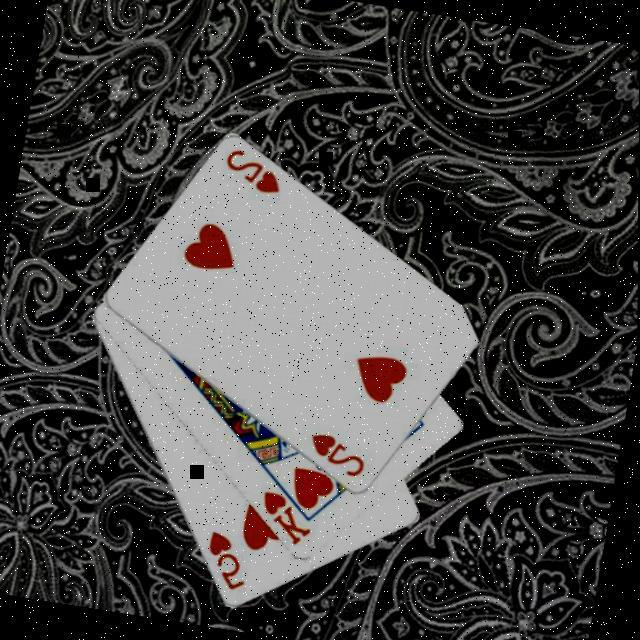2H: (217, 144, 287, 199), (302, 428, 370, 481)
5H: (197, 526, 256, 595)
KH: (251, 486, 318, 551)
